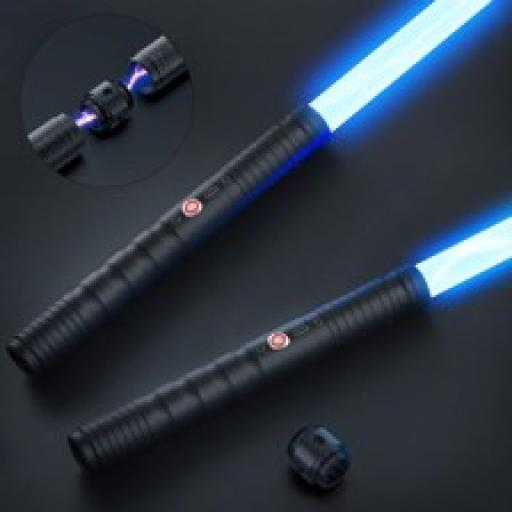lightsaber: (9, 0, 490, 370), (69, 216, 510, 481)
